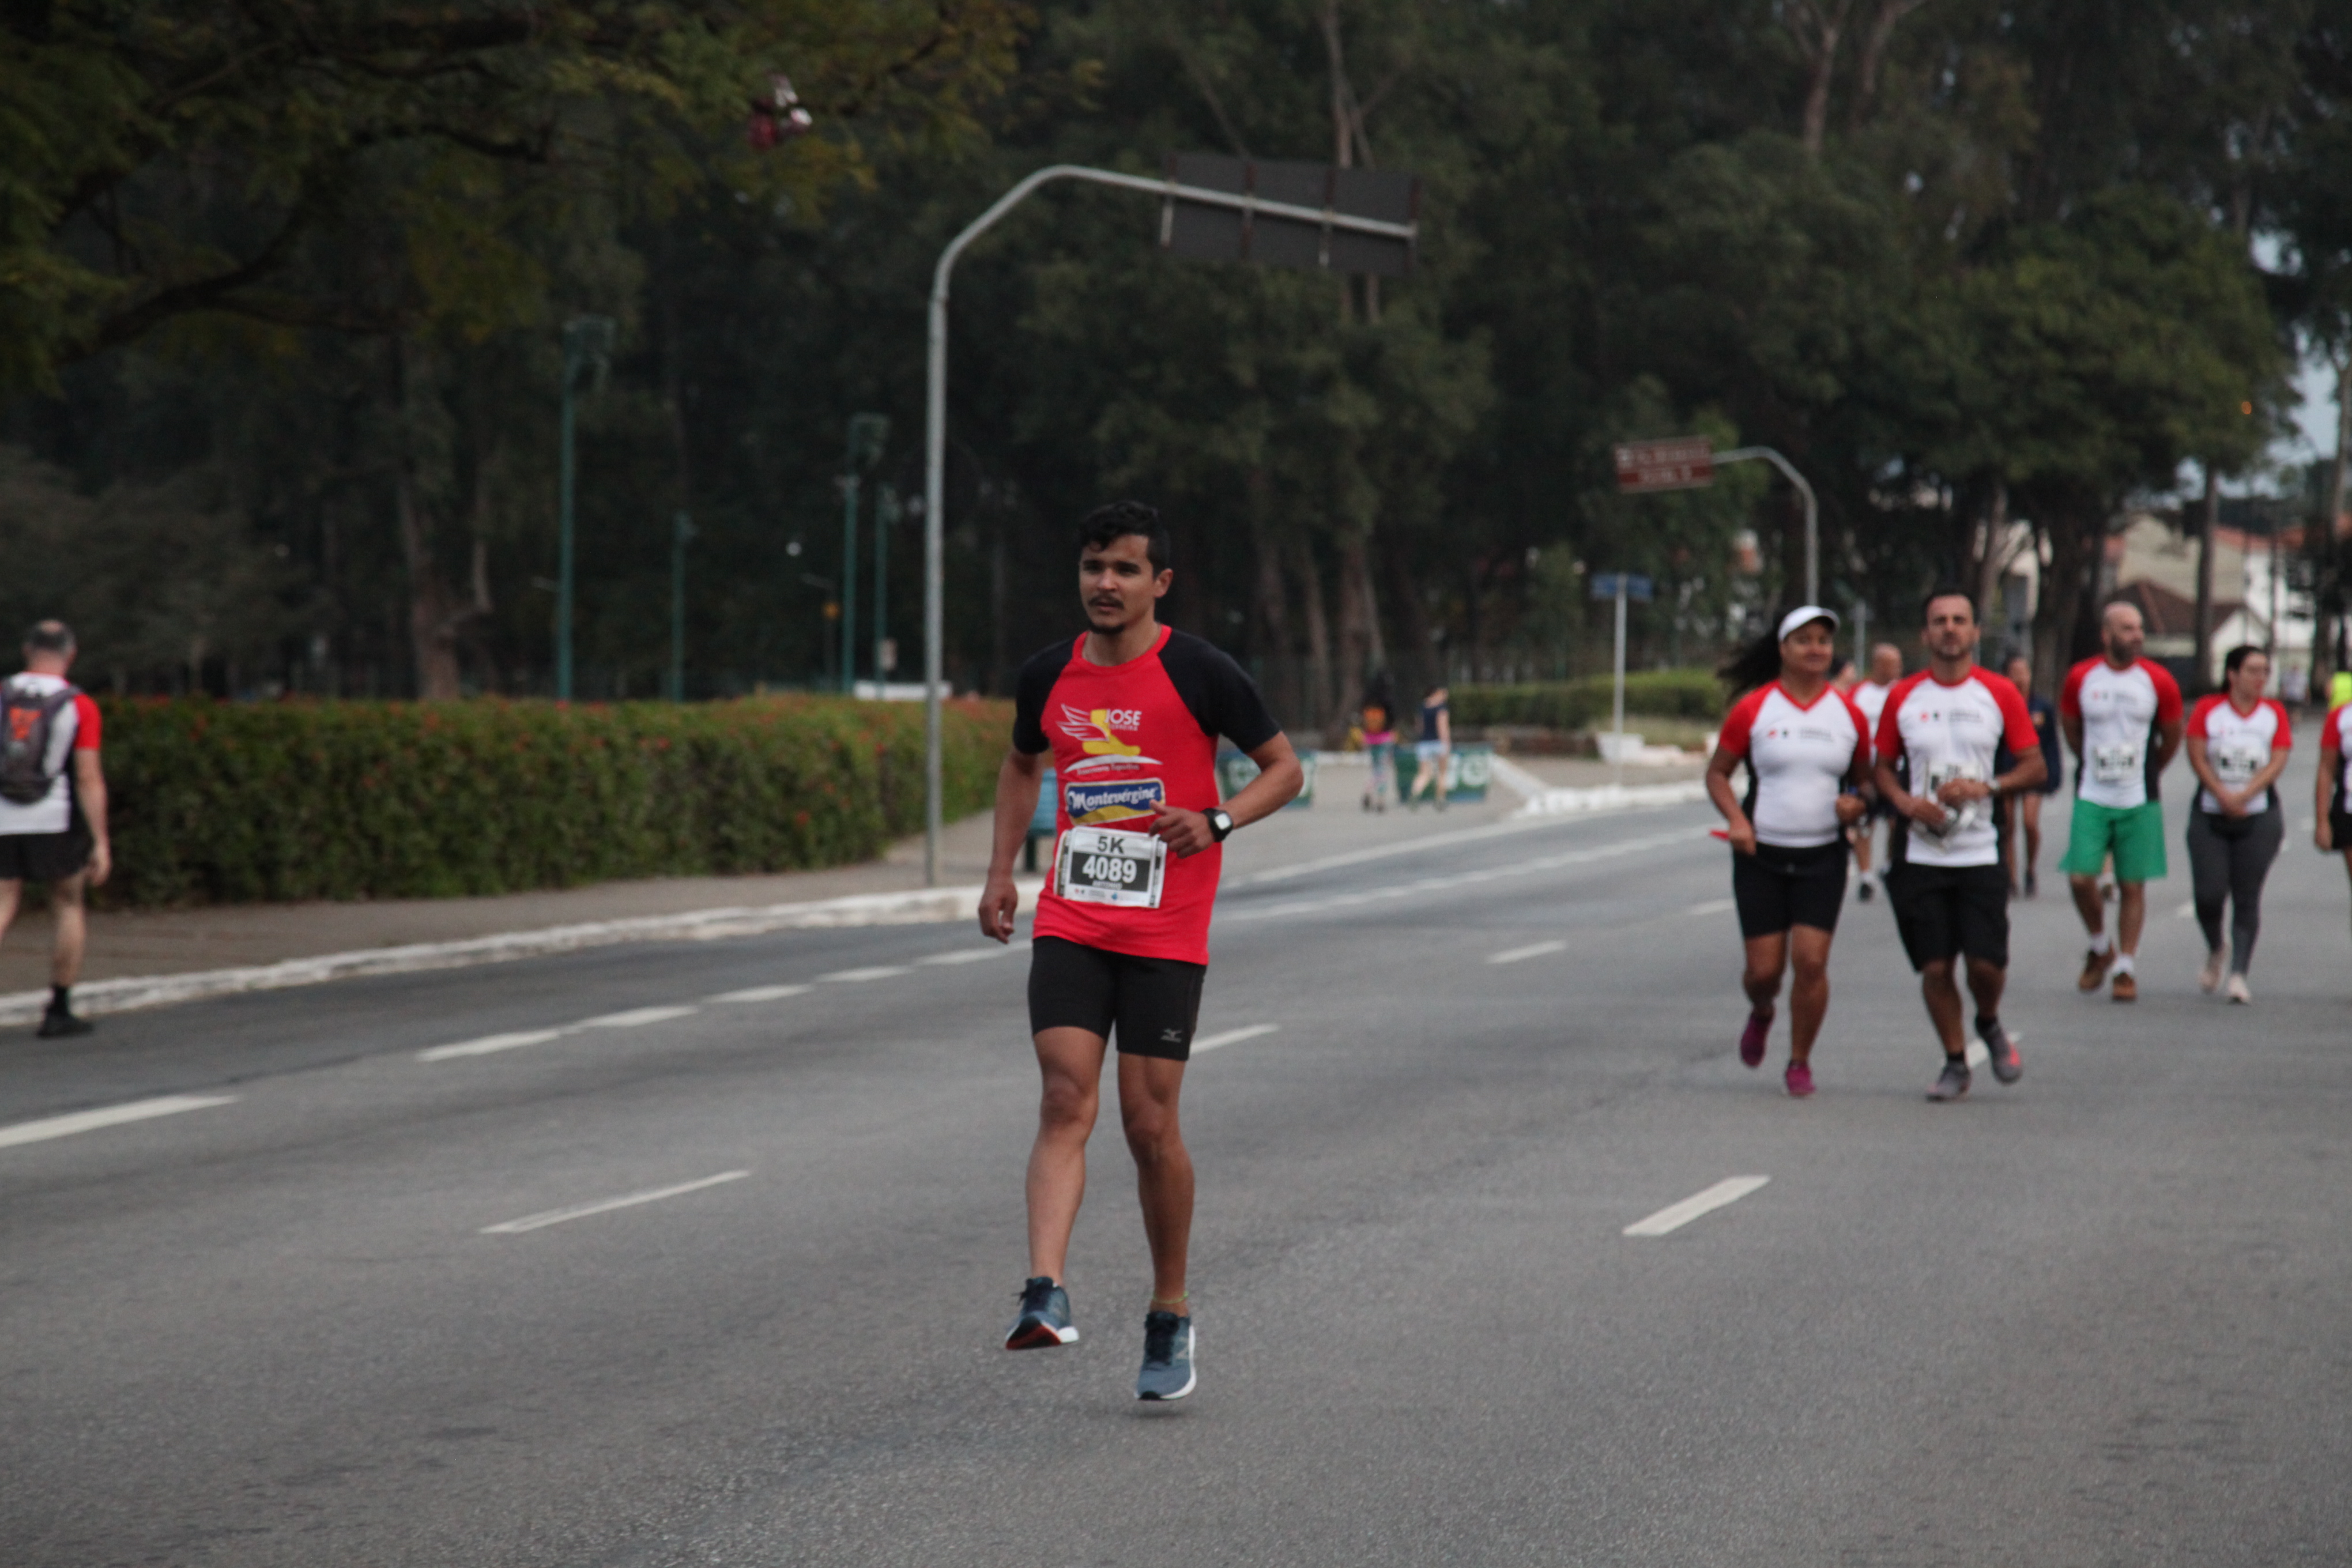bibtag: (1045, 826, 1174, 922), (2082, 738, 2147, 796)
